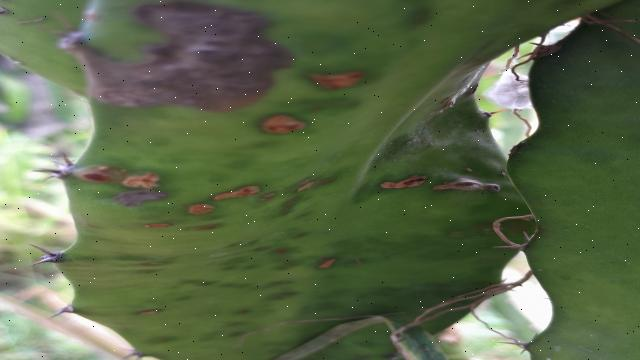stemcanker: (305, 65, 369, 94), (430, 172, 501, 197), (70, 161, 122, 188), (376, 171, 432, 195), (209, 181, 264, 204), (261, 111, 308, 136), (117, 168, 161, 192), (310, 253, 341, 275), (186, 201, 216, 218)
